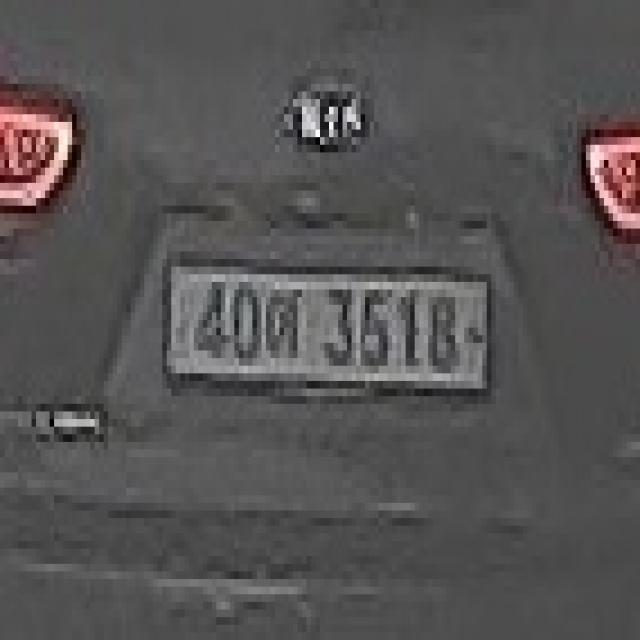0: (225, 274, 266, 366)
1: (397, 290, 419, 366)
3: (320, 282, 356, 366)
4: (194, 282, 230, 366)
5: (356, 282, 392, 381)
8: (424, 290, 459, 374)
eo: (266, 282, 306, 358)
license_plate: (158, 252, 491, 396)
